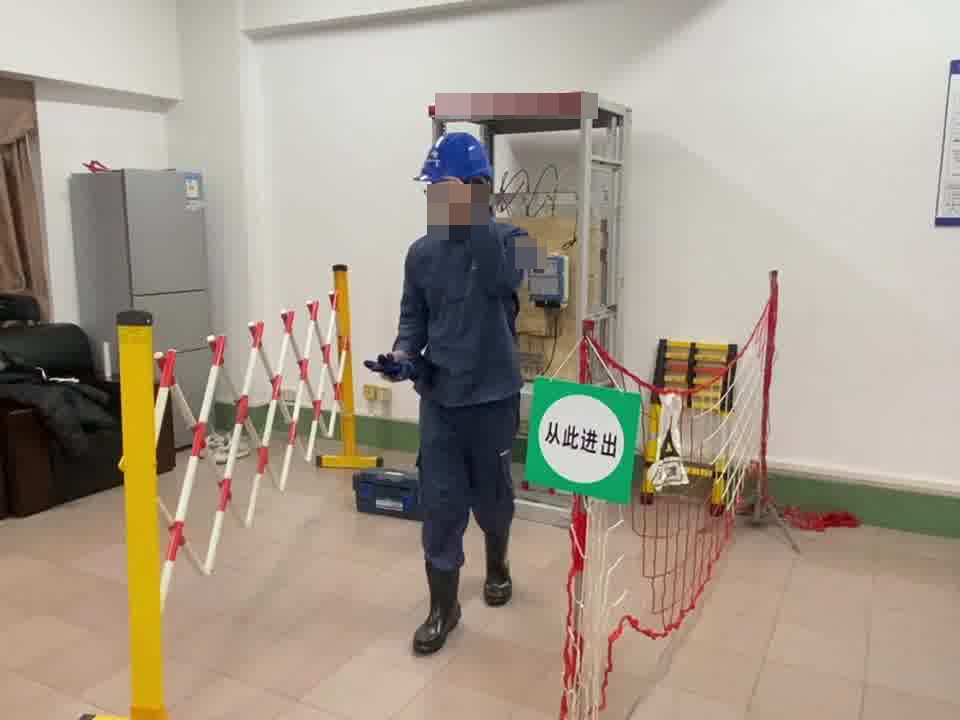downsuit: (412, 409, 520, 582)
halt: (419, 130, 497, 223)
hand: (442, 182, 473, 218)
intosign: (523, 380, 644, 506)
person: (373, 128, 537, 634)
shoe: (411, 565, 466, 654), (483, 535, 516, 607)
sleeve: (512, 237, 536, 258)
upsuit: (397, 217, 533, 395)
